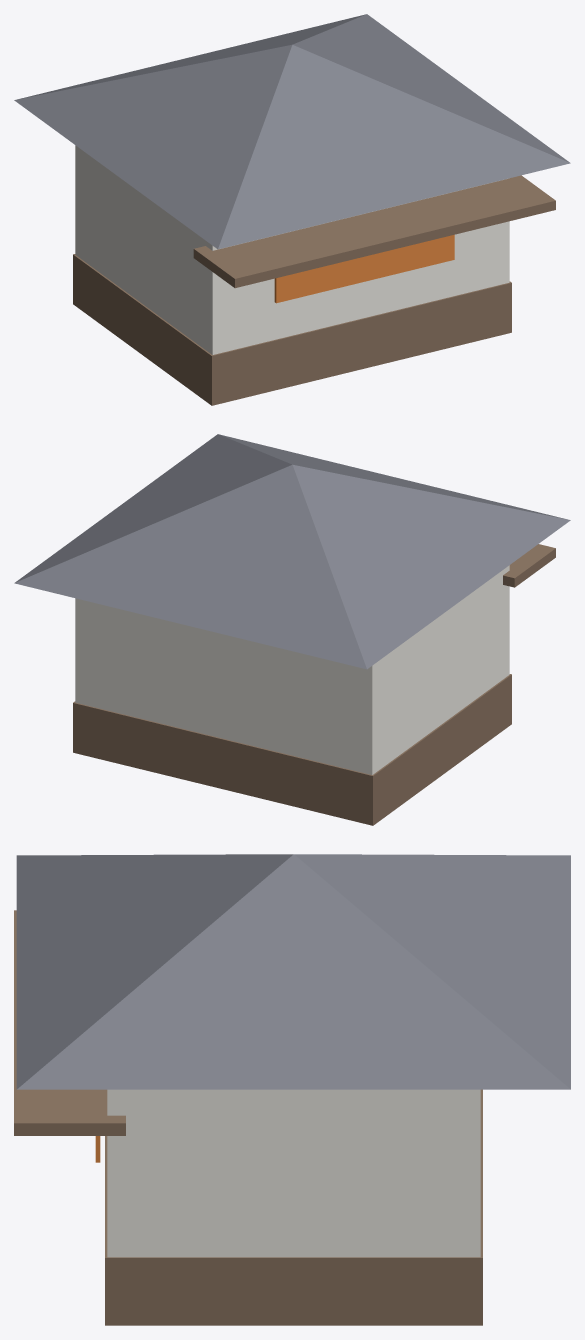
The model's file is shop.glb.
The picture shows the model from 3 angles, top to bottom: view 1: azimuth 30°, elevation 25°; view 2: azimuth 150°, elevation 25°; view 3: azimuth 270°, elevation 25°; orthographic projection. The views are drawn at different scales.
Visible parts, largest first — view 1: shop; view 2: shop; view 3: shop.
Part boxes in pixels (x1,y1,x2,y2): shop: (14,14,570,405); shop: (14,434,570,825); shop: (14,854,570,1325).
Bounding box in the file's own units: 5.94 × 4.4 × 5.97.
